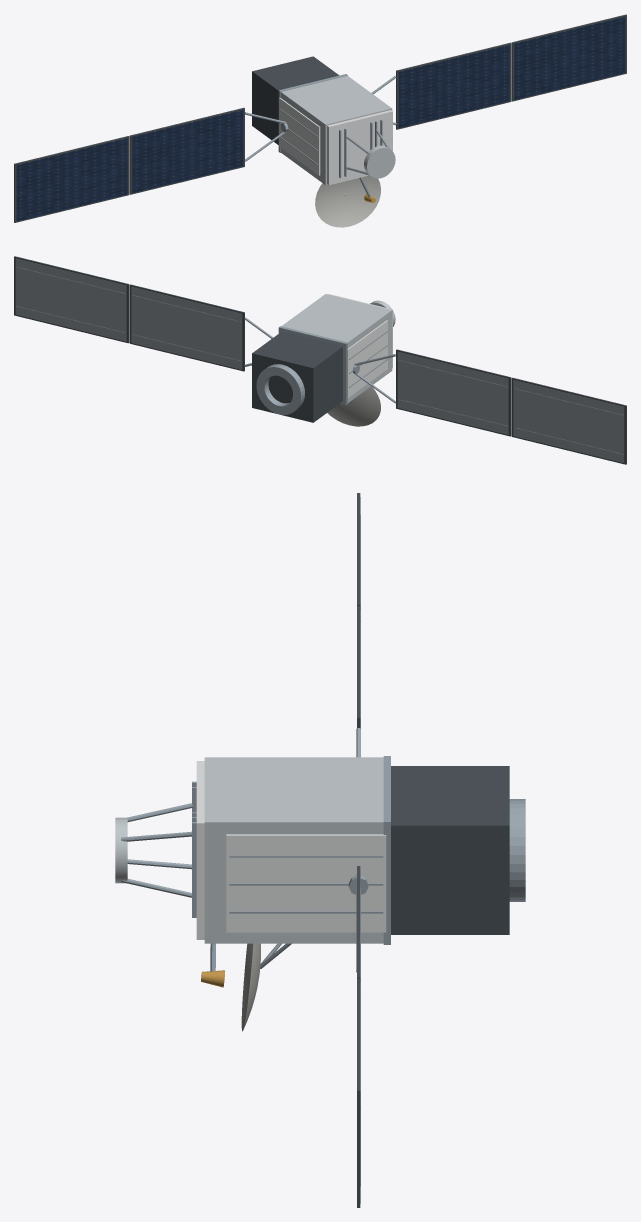
The model's file is ref-geostar-3-43272.glb.
3 renders of one model, top to bottom at view 1: azimuth 30°, elevation 25°; view 2: azimuth 150°, elevation 25°; view 3: azimuth 270°, elevation 25°, orthographic. The views are drawn at different scales.
Parts seen in each view (by area): view 1: Solar cell panel (×4), Payload module, Solar panel frame (×4), Service module, Earth-facing deck, Communications reflector, Radiator face, Antenna tower platform; view 2: Rear array substrate (×4), Service module, Payload module, Solar panel frame (×4), Radiator face, Launch adapter ring, Communications reflector, Module interface; view 3: Service module, Payload module, Radiator face, Launch adapter ring, Earth-facing deck, Module interface, Communications reflector.
Boxes of the visible parts, left/top/right/bottom form: Solar cell panel (×4): left=16, top=17, right=625, bottom=221; Payload module: left=281, top=75, right=392, bottom=185; Solar panel frame (×4): left=14, top=14, right=626, bottom=222; Service module: left=252, top=56, right=339, bottom=144; Earth-facing deck: left=327, top=110, right=392, bottom=185; Communications reflector: left=315, top=175, right=380, bottom=227; Radiator face: left=279, top=97, right=320, bottom=175; Antenna tower platform: left=364, top=145, right=395, bottom=178; Rear array substrate (×4): left=15, top=258, right=624, bottom=462; Service module: left=252, top=331, right=342, bottom=422; Payload module: left=281, top=294, right=392, bottom=402; Solar panel frame (×4): left=14, top=256, right=626, bottom=464; Radiator face: left=347, top=320, right=387, bottom=397; Launch adapter ring: left=256, top=364, right=304, bottom=414; Communications reflector: left=327, top=386, right=380, bottom=426; Module interface: left=278, top=326, right=347, bottom=405; Service module: left=391, top=766, right=509, bottom=934; Payload module: left=204, top=757, right=383, bottom=943; Radiator face: left=226, top=834, right=386, bottom=932; Launch adapter ring: left=509, top=799, right=525, bottom=901; Earth-facing deck: left=196, top=761, right=204, bottom=939; Module interface: left=383, top=756, right=390, bottom=944; Communications reflector: left=241, top=943, right=260, bottom=1031.
Size of the model in its own units: 22.96 by 4.2 by 6.66.
Materials: 8 (1 with a texture image).
